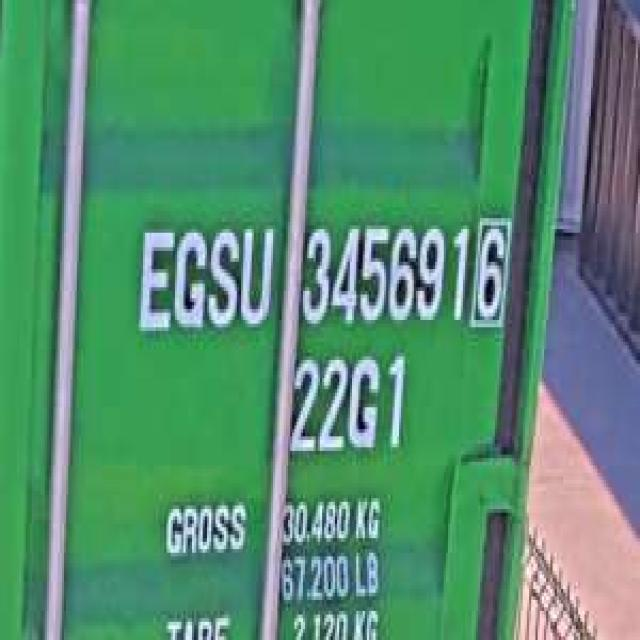dv: (469, 204, 512, 331)
owner: (132, 207, 275, 342)
serial: (294, 207, 472, 335)
size: (288, 342, 410, 465)
